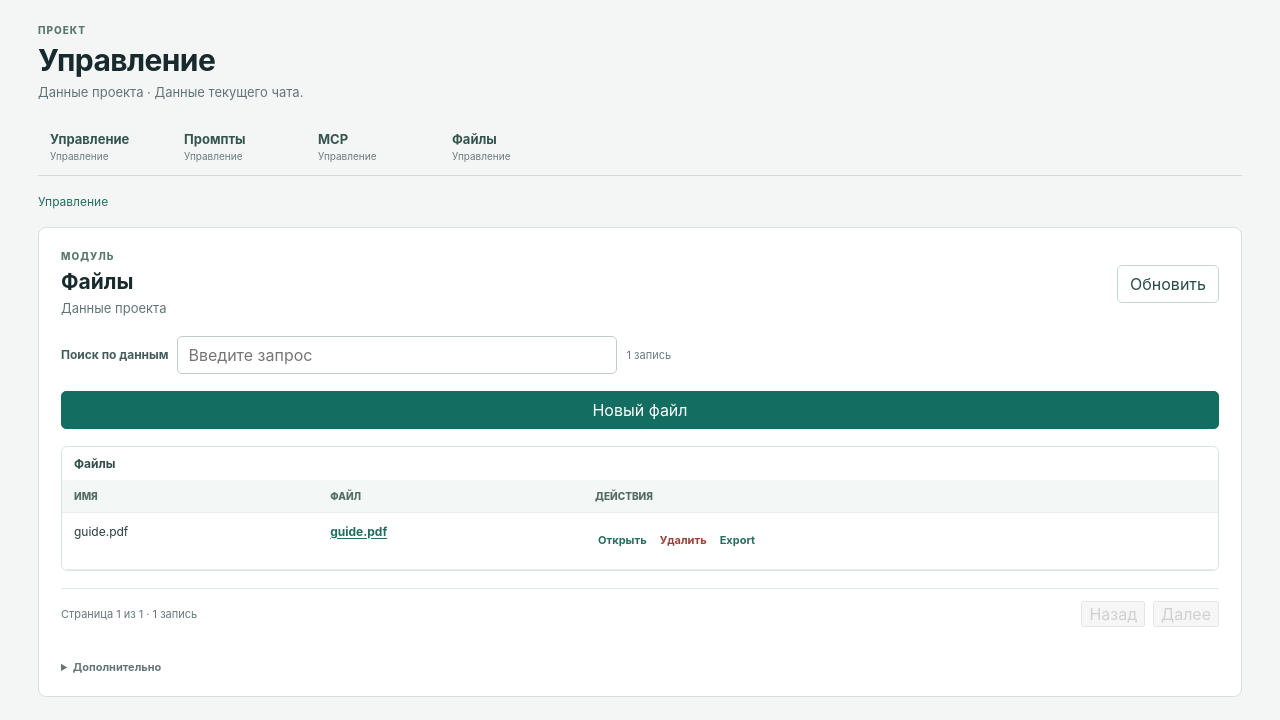
Test: ModuleRuntime › runs a typed row action with the exact backend row id and collected params; cancel does not invoke it
Click the button "Export" at (737, 541), box [717,523,758,559]
(page scrolled)
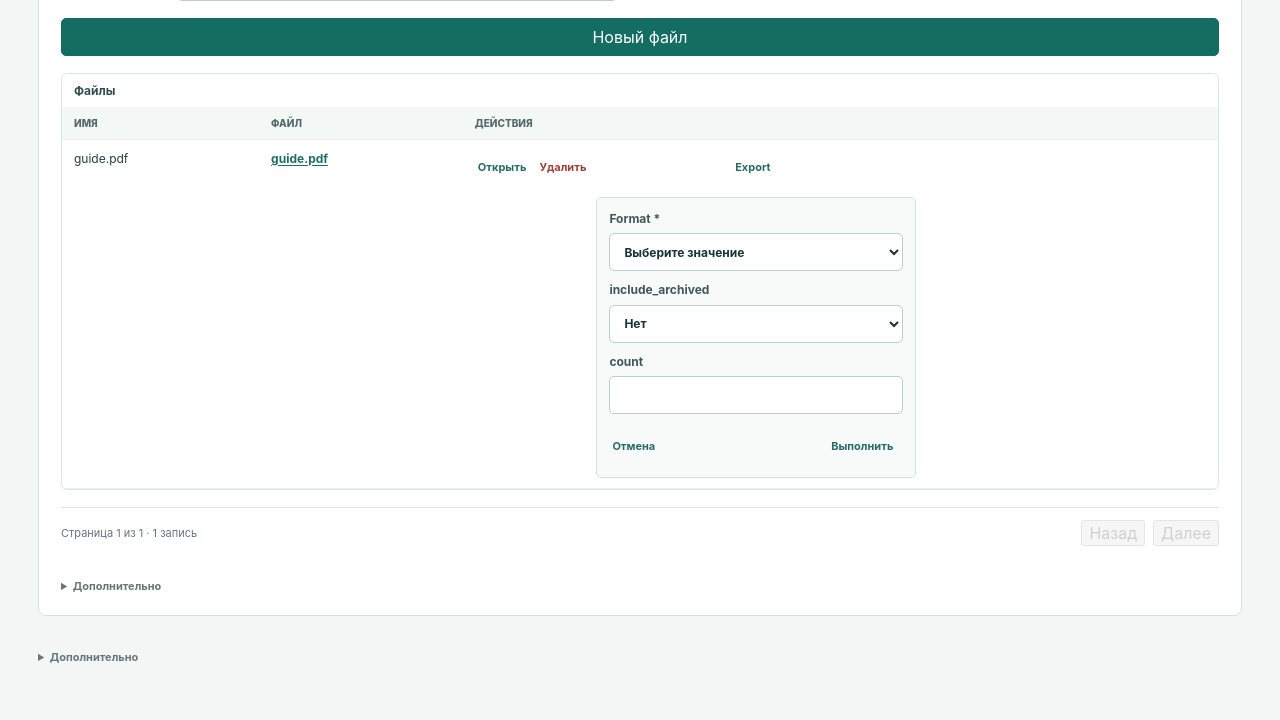
Click the button "Отмена" at (634, 447), box [609,429,658,465]
(page scrolled)
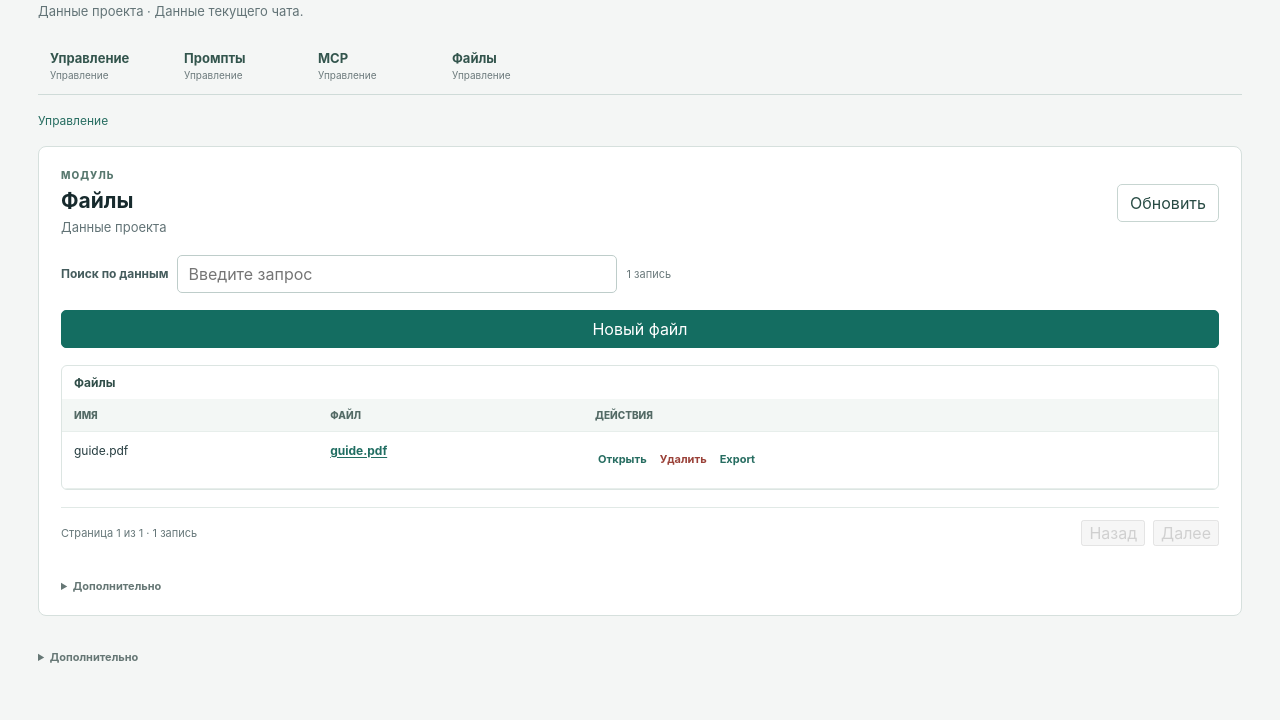
Click the button "Export" at (737, 460), box [717,442,758,478]
(page scrolled)
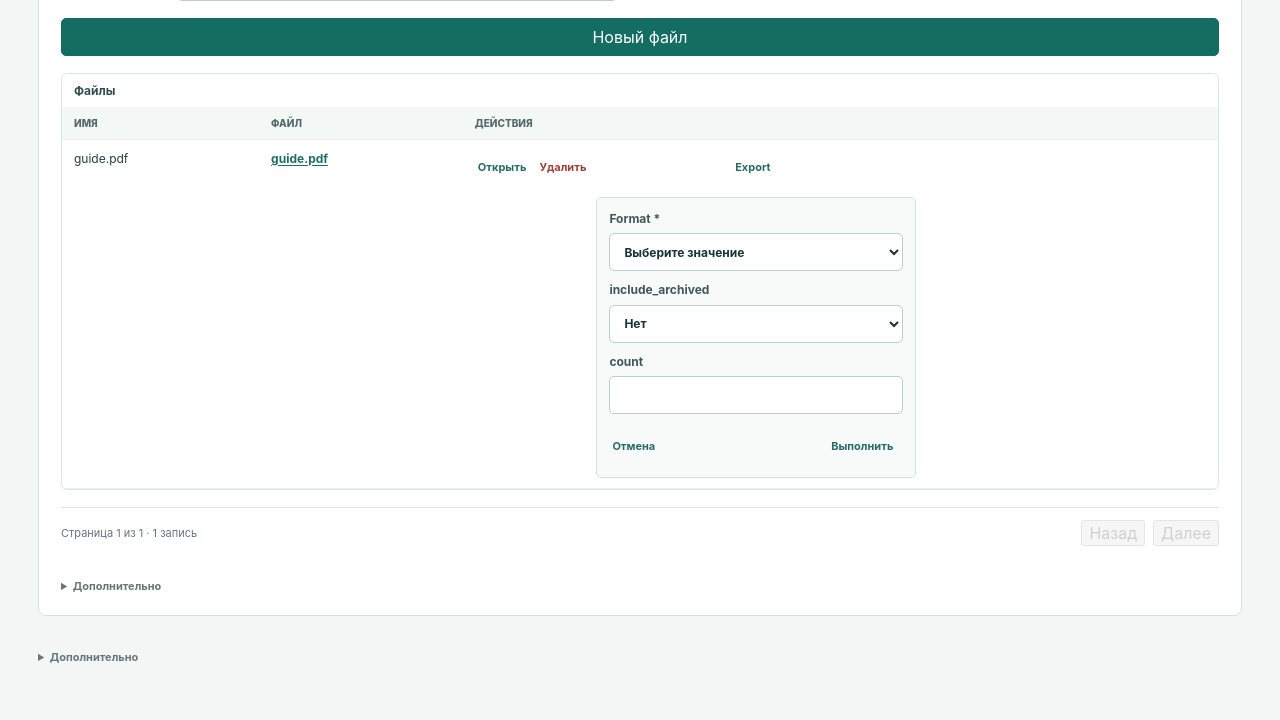
Select "xlsx" in the dropdown named "format" at (756, 252), box [609,233,903,271]
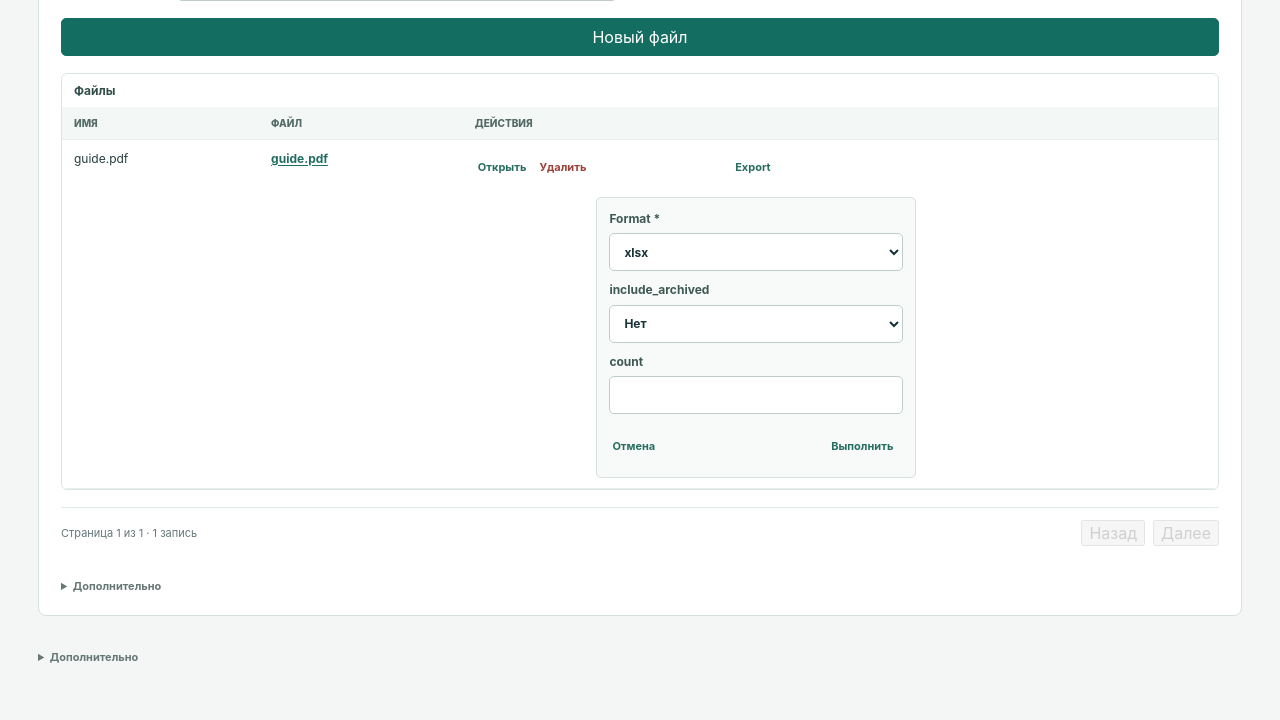
Type "3" into the number field named "count" at (756, 395), box [609,376,903,414]
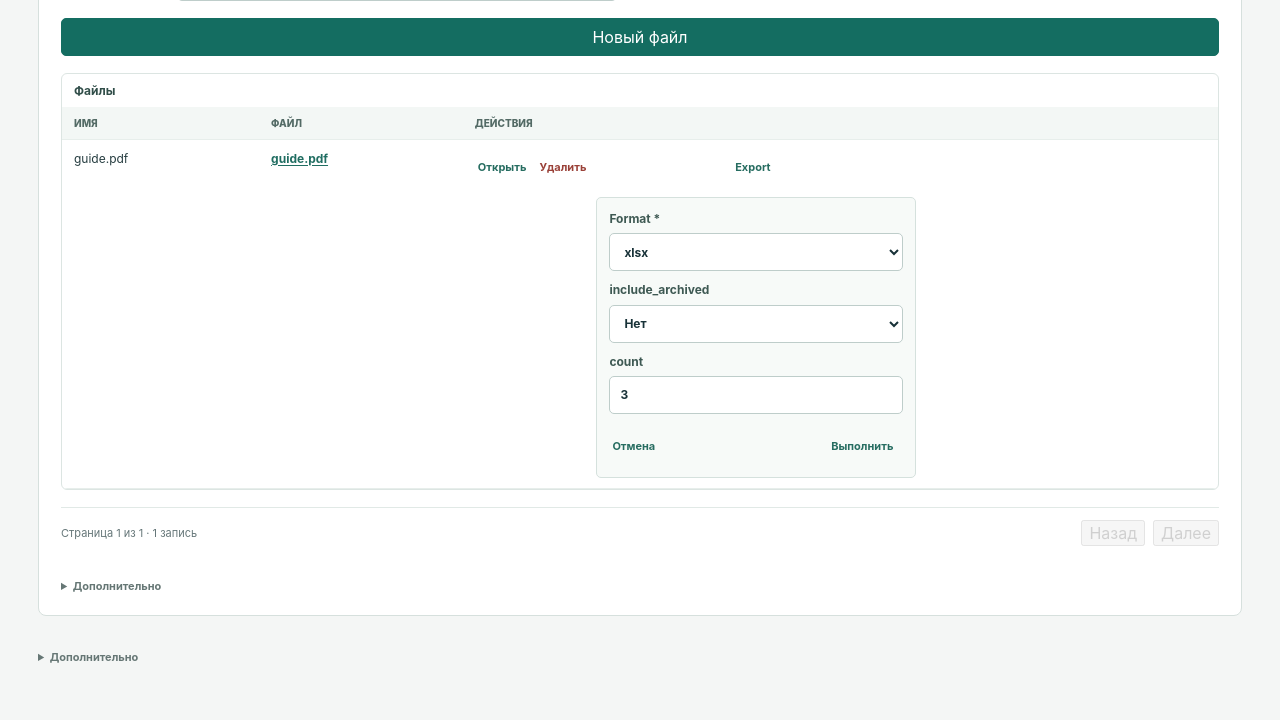
Submit the form with class "module-runtime-action-form", box [596,197,916,478]
(page scrolled)
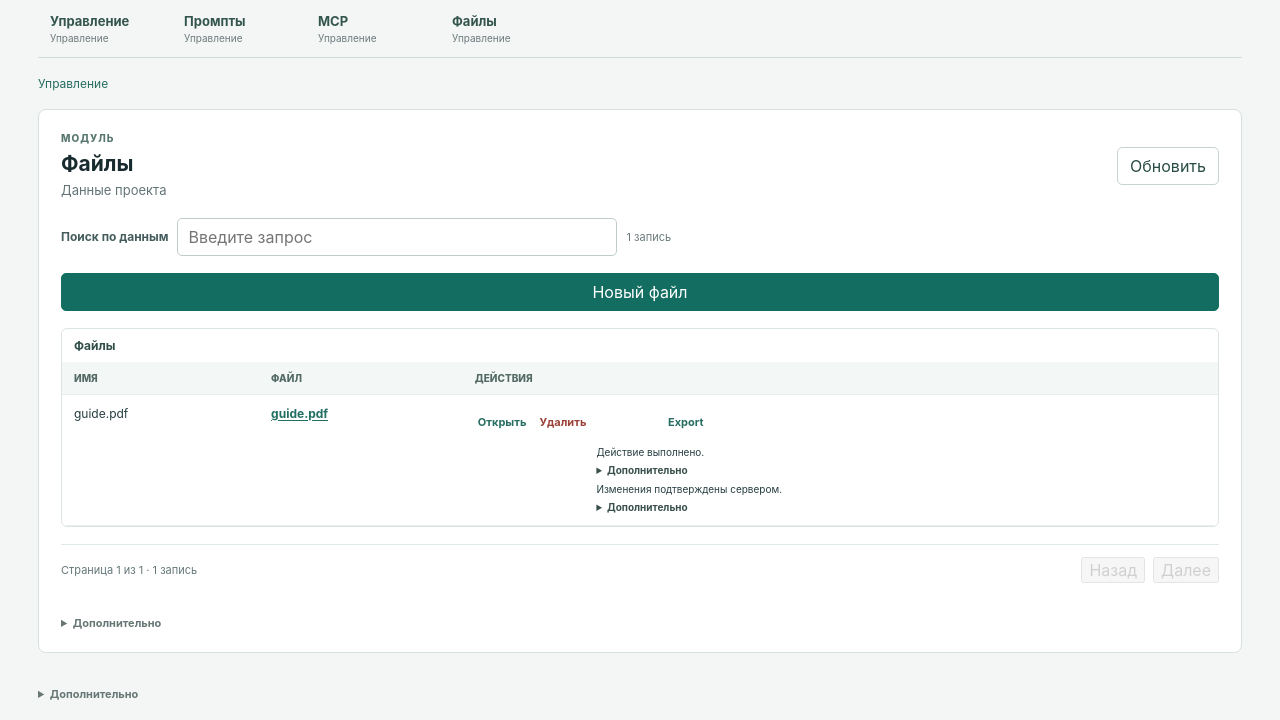
Expected: the text "Дополнительно" is shown, [607,464,688,476]
Expected: the text "Изменения подтверждены сервером." is shown, [596,482,782,496]
